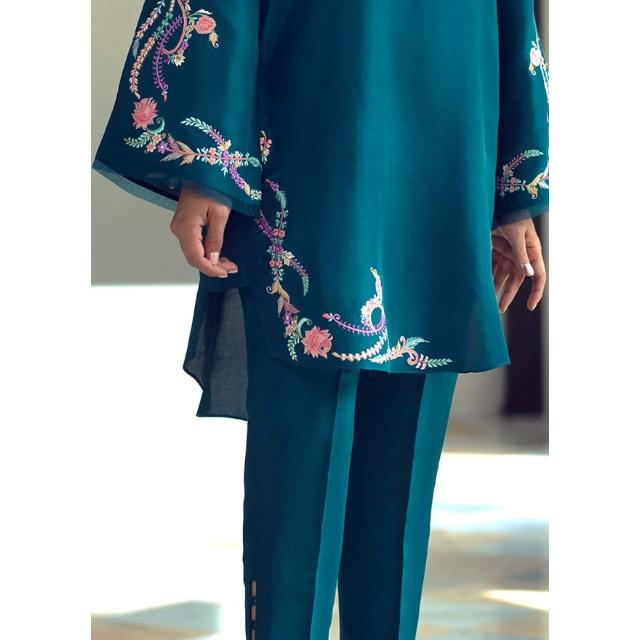silk: (129, 1, 549, 392)
